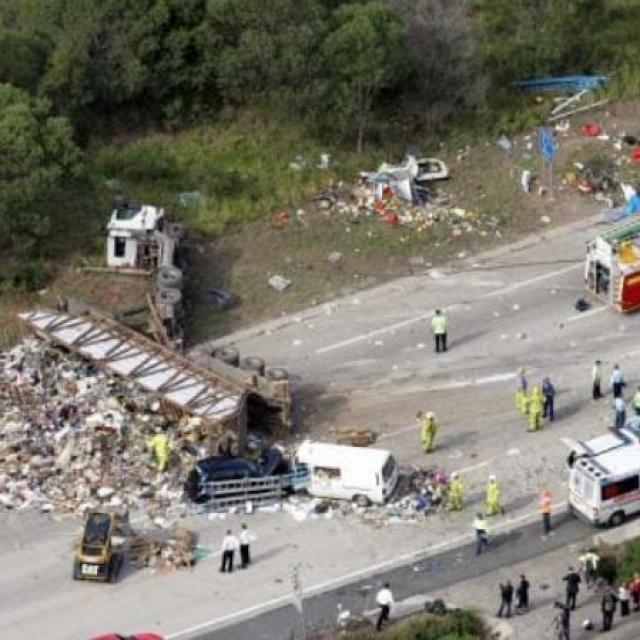traffic_incident: (2, 288, 380, 516)
